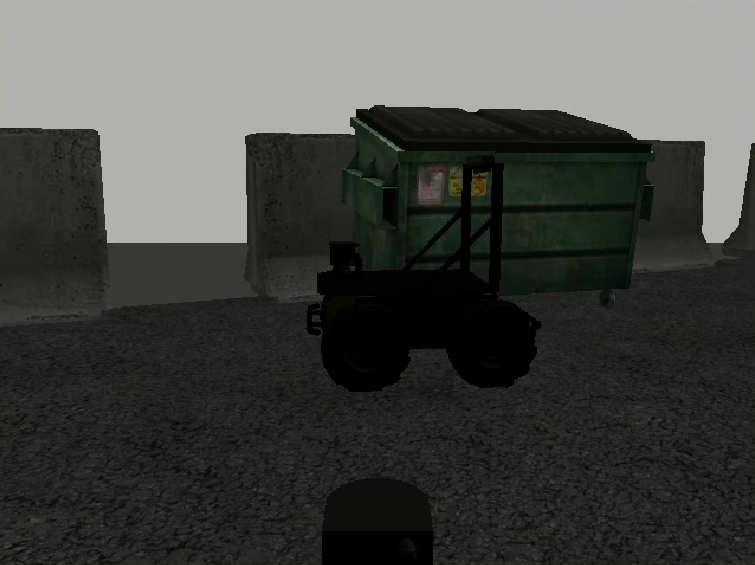husky: (306, 270, 541, 392)
